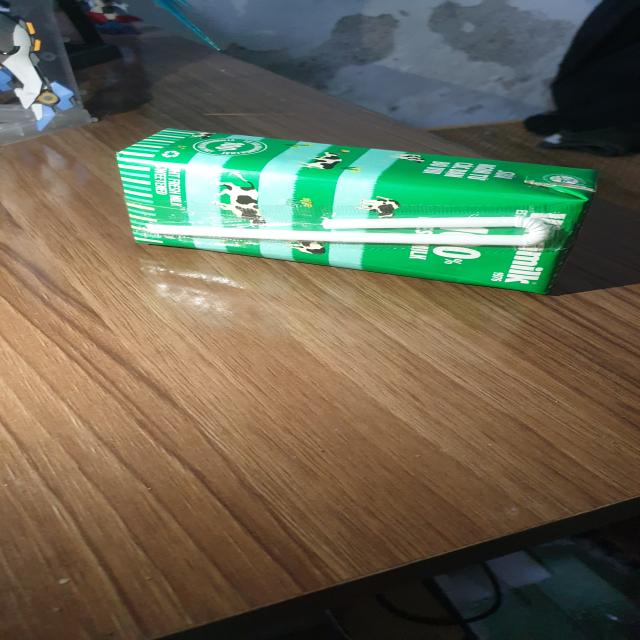Vina: (117, 127, 608, 292)
